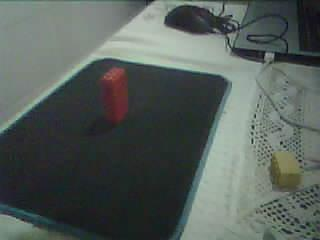lego: (99, 67, 129, 125)
